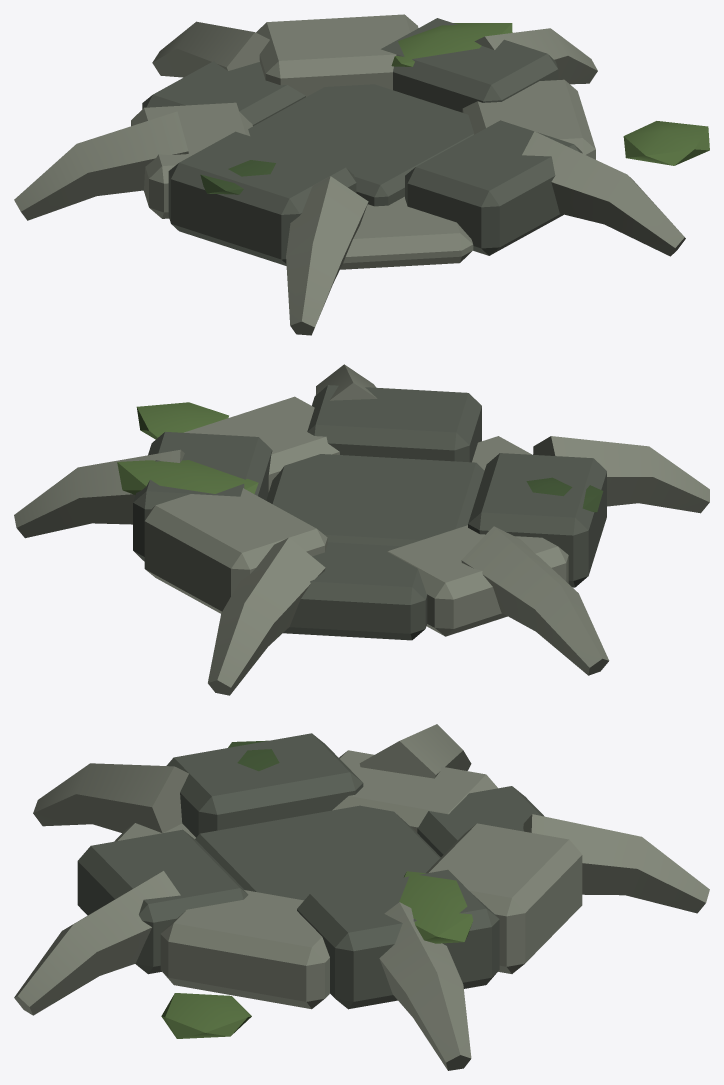
Rendered from sentinela_base.fbx.
The picture shows the model from 3 angles, top to bottom: view 1: azimuth 30°, elevation 25°; view 2: azimuth 150°, elevation 25°; view 3: azimuth 270°, elevation 25°; orthographic projection. The views are drawn at different scales.
Visible parts, largest first — view 1: sentinela_base; view 2: sentinela_base; view 3: sentinela_base.
Boxes of the visible parts, x1,y1,x2,y2 form: sentinela_base: [14, 14, 709, 335]; sentinela_base: [14, 364, 709, 695]; sentinela_base: [14, 724, 709, 1070].
Size of the model in its own units: 2.01 by 0.3161 by 1.95.
